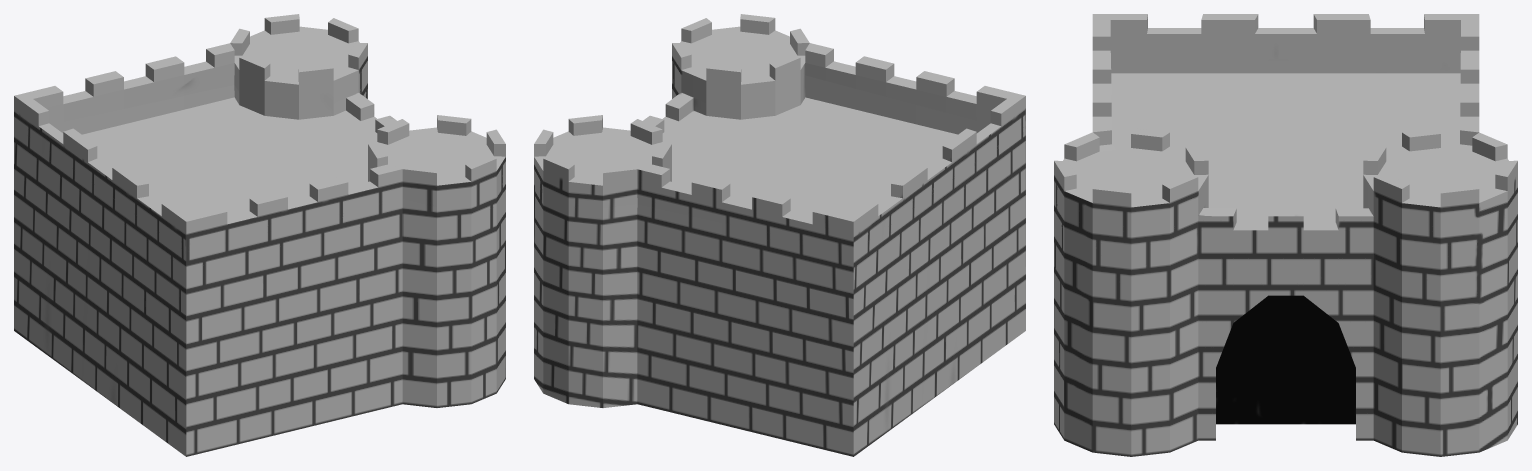
The model's file is Castle.fbx.
3 renders of one model, left to right at view 1: azimuth 30°, elevation 25°; view 2: azimuth 150°, elevation 25°; view 3: azimuth 270°, elevation 25°, orthographic. The views are drawn at different scales.
Visible parts, largest first — view 1: Cube; view 2: Cube; view 3: Cube.
Boxes of the visible parts, <box> form: Cube: <box>14,14,505,456</box>; Cube: <box>534,14,1025,456</box>; Cube: <box>1054,14,1517,456</box>.
Bounding box in the file's own units: 549 × 376 × 600.
